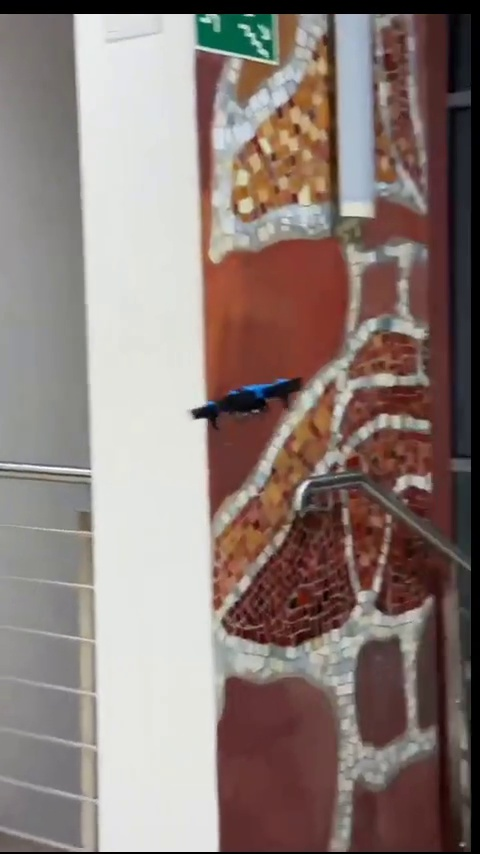drone: (200, 379, 298, 424)
